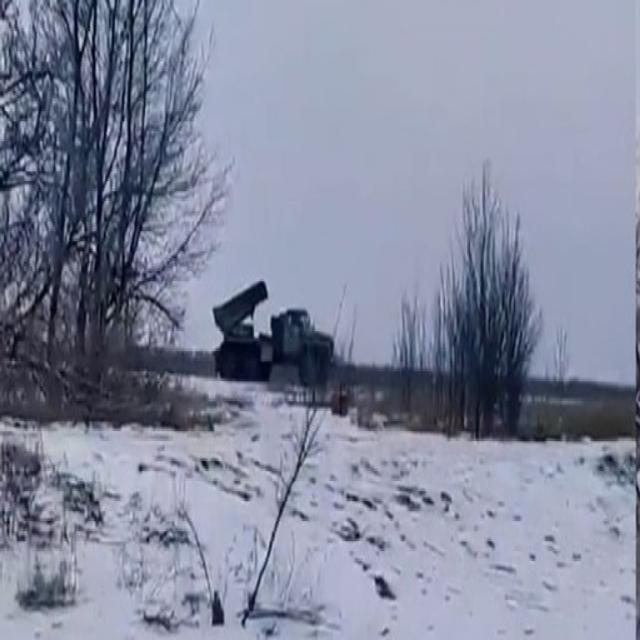MLRS: (211, 278, 334, 389)
